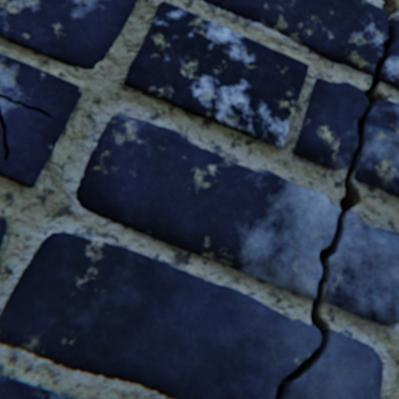brick: (125, 2, 308, 148), (0, 53, 83, 186), (0, 0, 137, 69), (0, 373, 76, 398), (0, 217, 7, 250)
broken_brick: (0, 232, 320, 398), (77, 115, 340, 297), (204, 0, 387, 75), (323, 210, 398, 324), (282, 329, 382, 398), (294, 78, 367, 169), (355, 100, 398, 197), (380, 14, 398, 89)
crack: (275, 0, 398, 398), (0, 94, 53, 117), (0, 106, 10, 159)
